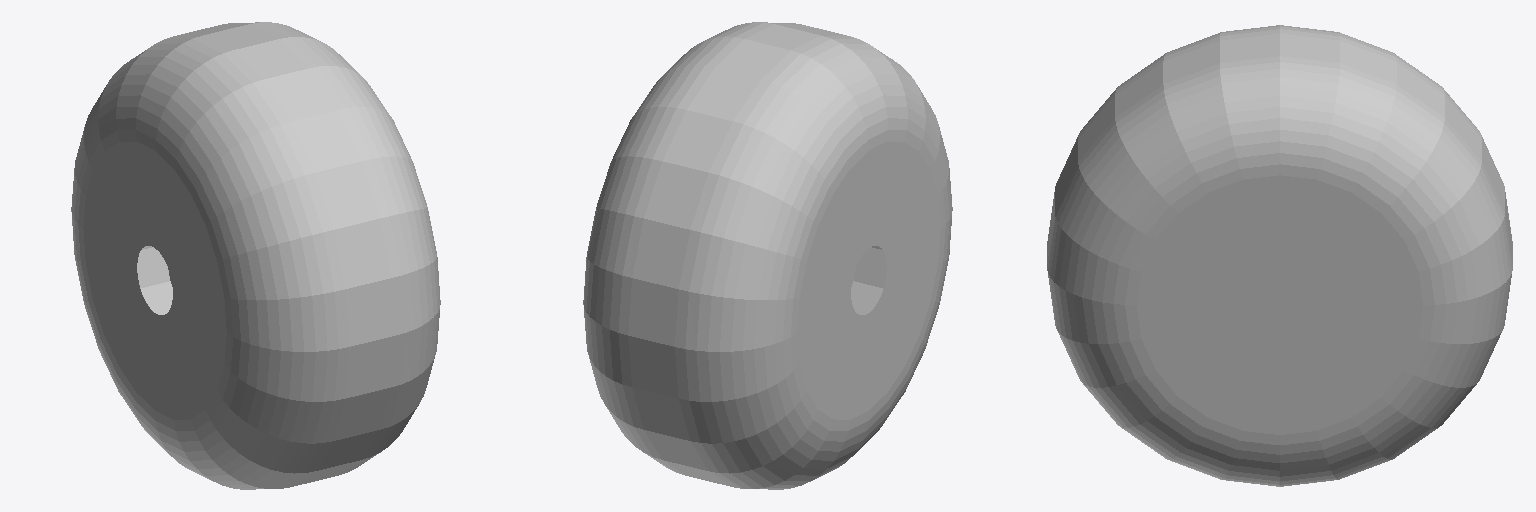
The model's file is original-239.obj.
3 renders of one model, left to right at view 1: azimuth 30°, elevation 25°; view 2: azimuth 150°, elevation 25°; view 3: azimuth 270°, elevation 25°, orthographic.
Parts seen in each view (by area): view 1: #ID1472; view 2: #ID1472; view 3: #ID1472.
Boxes of the visible parts, x1,y1,x2,y2 form: #ID1472: [71, 22, 440, 489]; #ID1472: [583, 22, 952, 489]; #ID1472: [1047, 25, 1512, 486].
Bounding box in the file's own units: 0.0196 × 0.0391 × 0.0391.